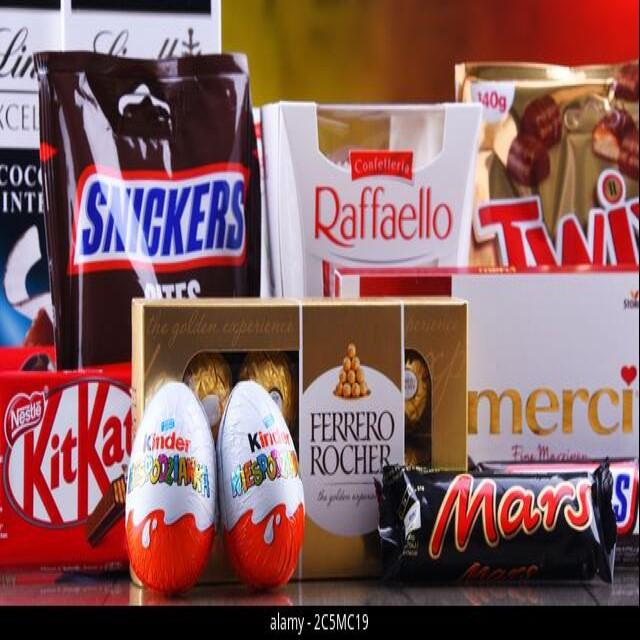kitkat_chocolate: (0, 366, 161, 576)
mars_chocolate: (393, 458, 640, 571)
snickers_chocolate: (62, 53, 246, 297)
